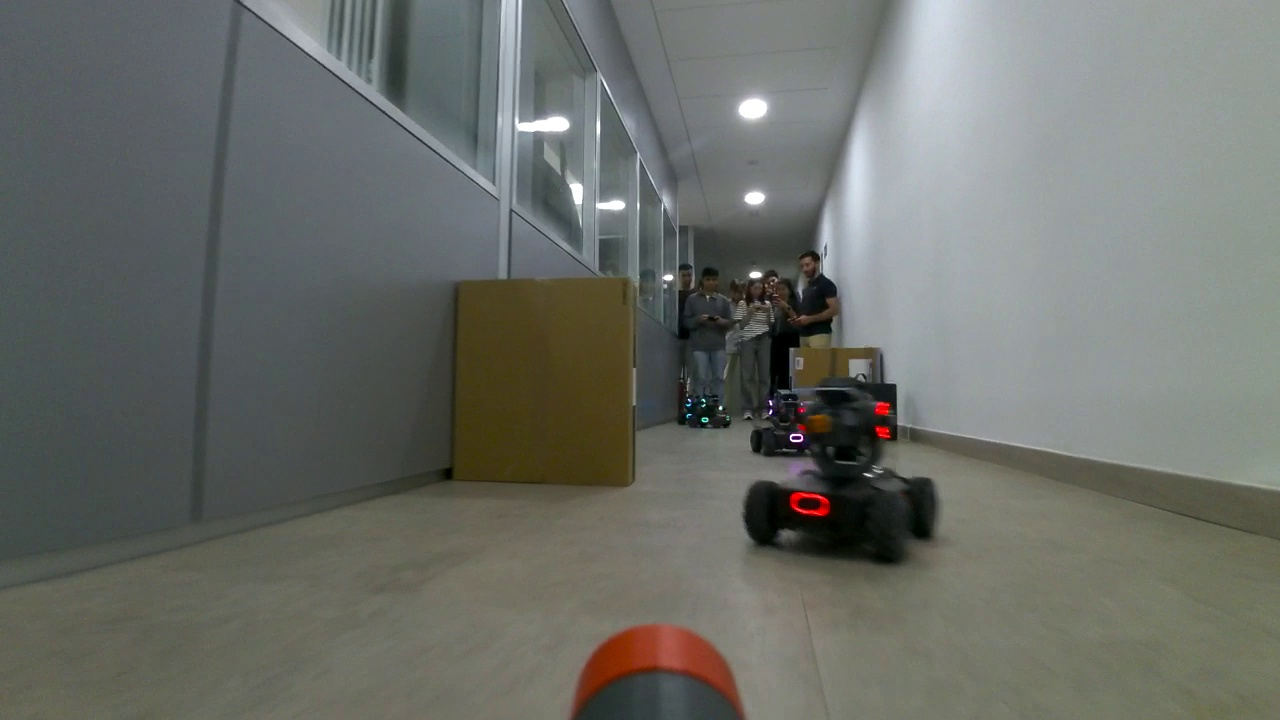robot: (744, 378, 942, 568), (749, 390, 809, 457), (691, 396, 731, 428)
